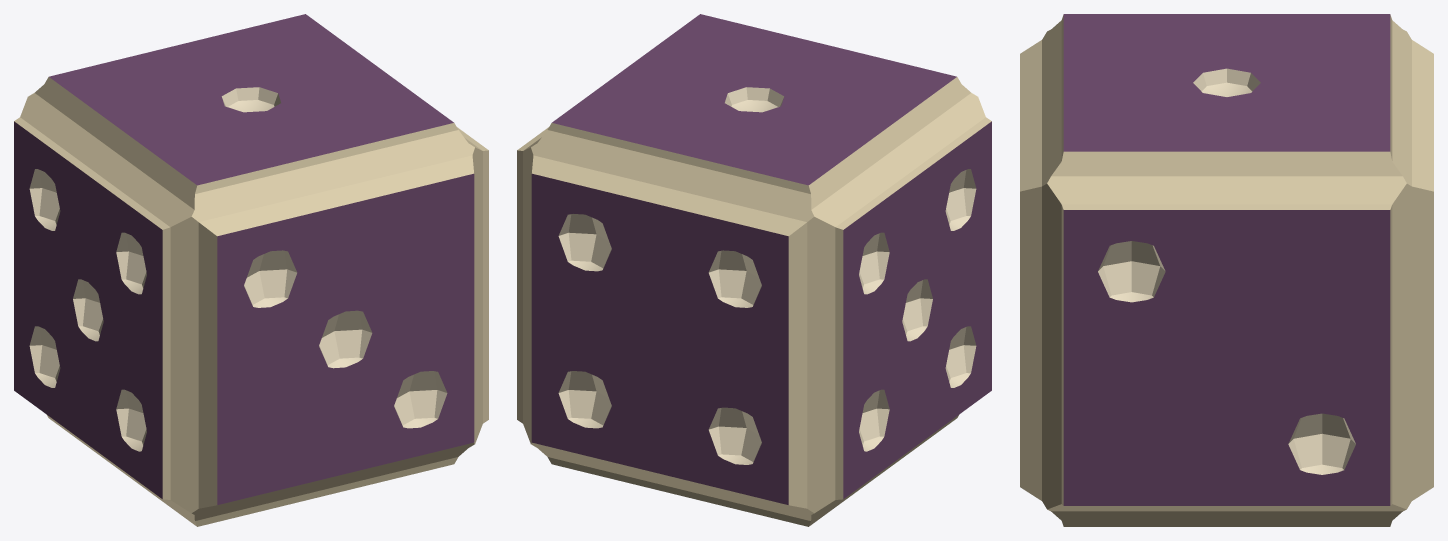
The model's file is coven_d6.glb.
3 views of the same model, side by side, from view 1: azimuth 30°, elevation 25°; view 2: azimuth 150°, elevation 25°; view 3: azimuth 270°, elevation 25° (orthographic). The views are drawn at different scales.
Visible parts, largest first — view 1: CovenD6; view 2: CovenD6; view 3: CovenD6.
Boxes of the visible parts, left/top/right/bottom form: CovenD6: left=14, top=14, right=488, bottom=526; CovenD6: left=517, top=14, right=991, bottom=526; CovenD6: left=1020, top=14, right=1433, bottom=526.
Bounding box in the file's own units: 0.08 × 0.08 × 0.08.
